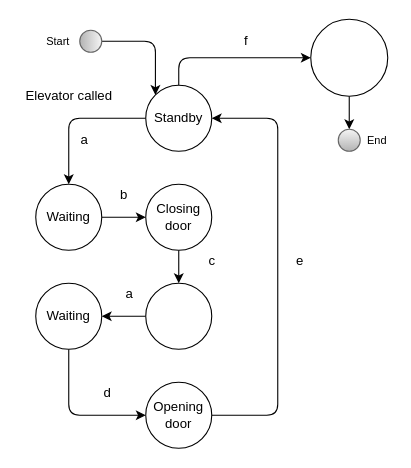
The diagram is 411 pixels wide and 468 high, and some of its shapes have lost their labels. Here are the shapes that lost their labels. From the top down, the centre of each, then its label:
the point at 349,57: Terminated
the point at 178,315: Moving
